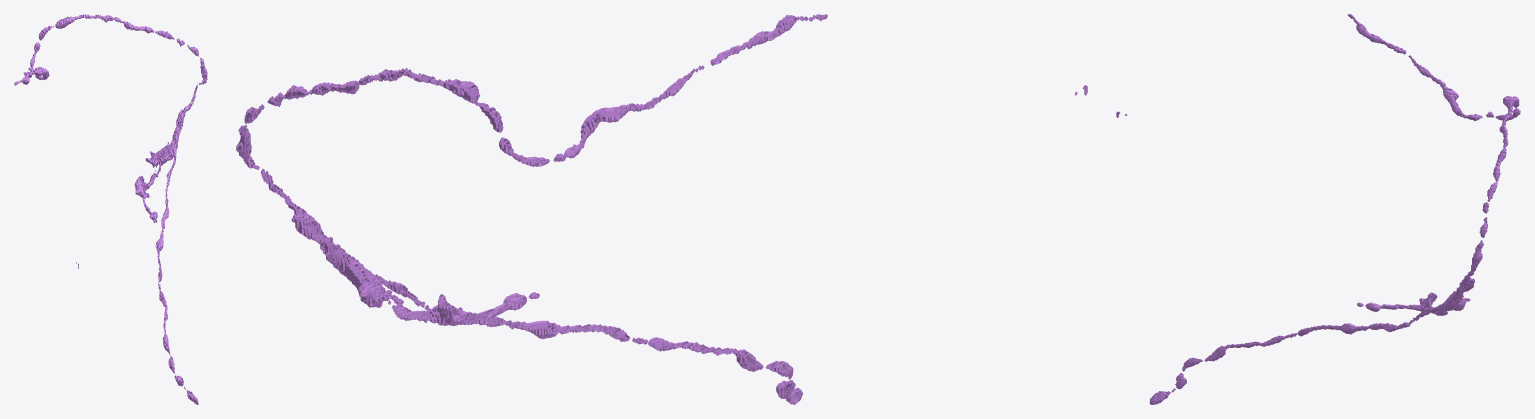
The model's file is SVV_SIBDR.gltf.
3 views of the same model, side by side, from view 1: azimuth 30°, elevation 25°; view 2: azimuth 150°, elevation 25°; view 3: azimuth 270°, elevation 25° (orthographic). The views are drawn at different scales.
Visible parts, largest first — view 1: SIBDR; view 2: SIBDR; view 3: SIBDR.
Part boxes in pixels (<box>): SIBDR: <box>14,14,207,404</box>; SIBDR: <box>236,14,1087,404</box>; SIBDR: <box>1116,14,1520,404</box>.
Size of the model in its own units: 175288 by 168860 by 185338.
